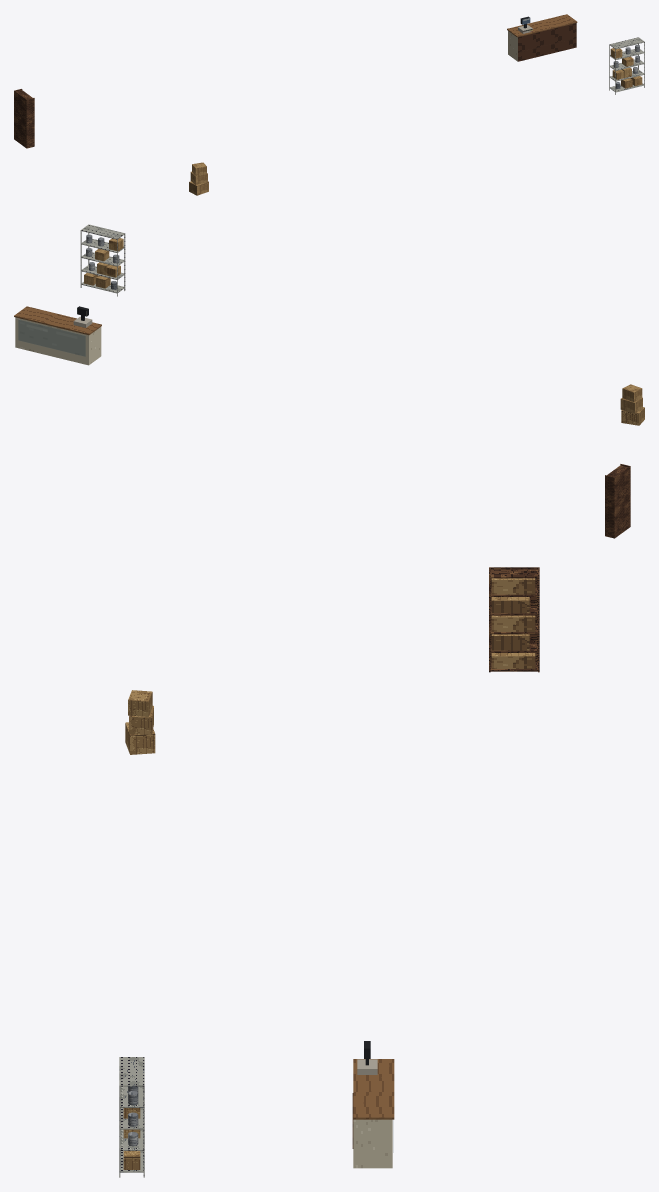
Rendered from COM_Storefront_C_Furnishing.glb.
3 views of the same model, one above another, from view 1: azimuth 30°, elevation 25°; view 2: azimuth 150°, elevation 25°; view 3: azimuth 270°, elevation 25° (orthographic). The views are drawn at different scales.
Parts seen in each view (by area): view 1: COM_Storefront_C_Furnishing_Mesh; view 2: COM_Storefront_C_Furnishing_Mesh; view 3: COM_Storefront_C_Furnishing_Mesh.
Part boxes in pixels (bbox=[...]): COM_Storefront_C_Furnishing_Mesh: bbox=[14, 14, 644, 195]; COM_Storefront_C_Furnishing_Mesh: bbox=[14, 224, 644, 538]; COM_Storefront_C_Furnishing_Mesh: bbox=[119, 567, 539, 1177].
Size of what is drawn, in the model's own units: 21.49 by 1.9 by 7.44.
Materials: 6 (6 with a texture image).
